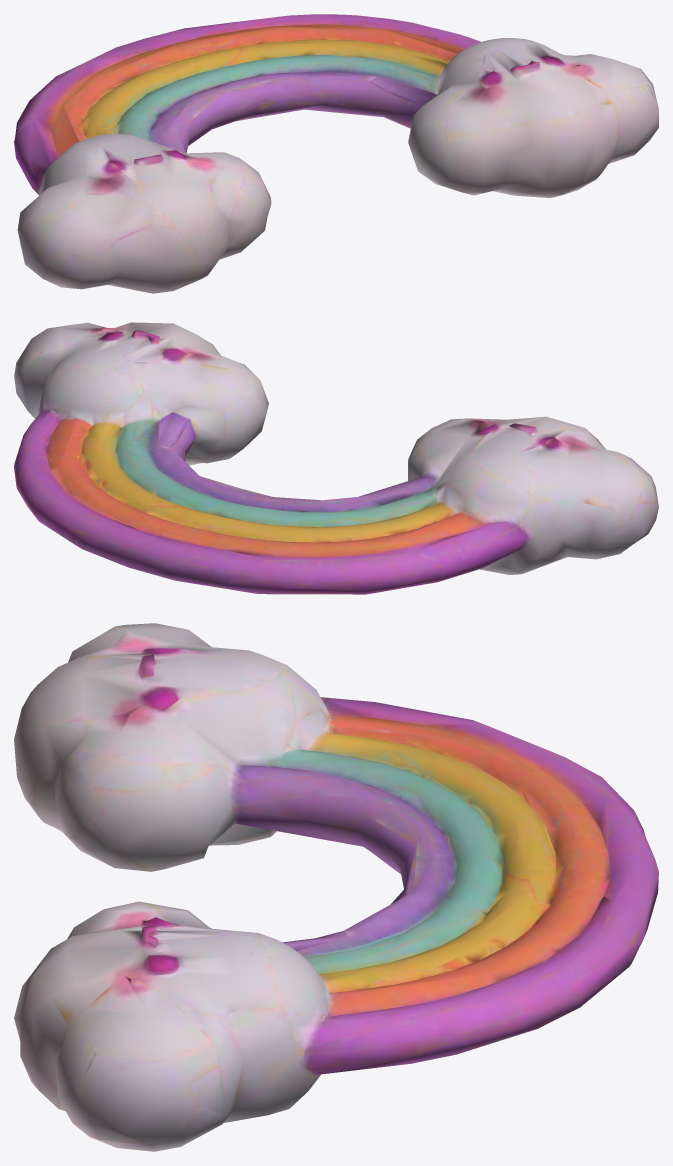
3 renders of one model, top to bottom at view 1: azimuth 30°, elevation 25°; view 2: azimuth 150°, elevation 25°; view 3: azimuth 270°, elevation 25°, orthographic. The views are drawn at different scales.
Visible parts, largest first — view 1: material; view 2: material; view 3: material.
Part boxes in pixels (x1,y1,x2,y2): material: (14,14,658,293); material: (14,322,658,594); material: (14,623,658,1151).
Size of the model in its own units: 1 by 0.1825 by 0.6124.
1 material, 1 textured.
